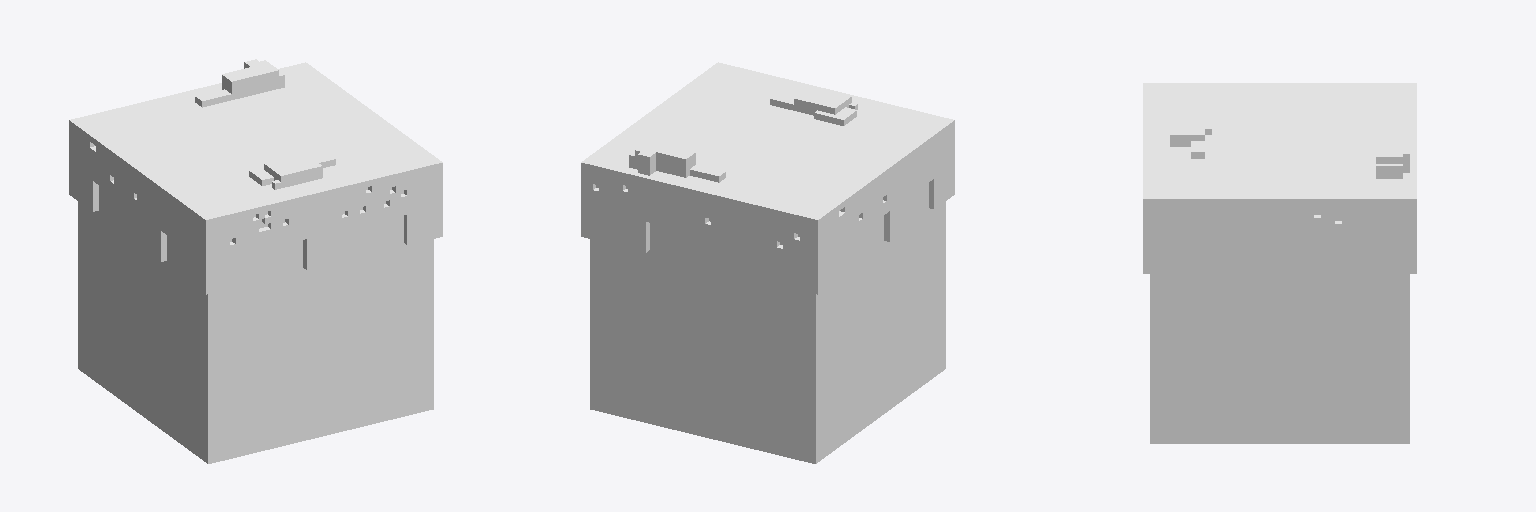
File: tile_base_top_1.obj
The picture shows the model from 3 angles: view 1: azimuth 30°, elevation 25°; view 2: azimuth 150°, elevation 25°; view 3: azimuth 270°, elevation 25°; orthographic projection.
Visible parts, largest first — view 1: tile_base_top_1; view 2: tile_base_top_1; view 3: tile_base_top_1.
Boxes of the visible parts, <box> form: tile_base_top_1: <box>69,59,442,463</box>; tile_base_top_1: <box>581,62,954,463</box>; tile_base_top_1: <box>1143,83,1416,443</box>.
Size of the model in its own units: 40 by 43 by 40.